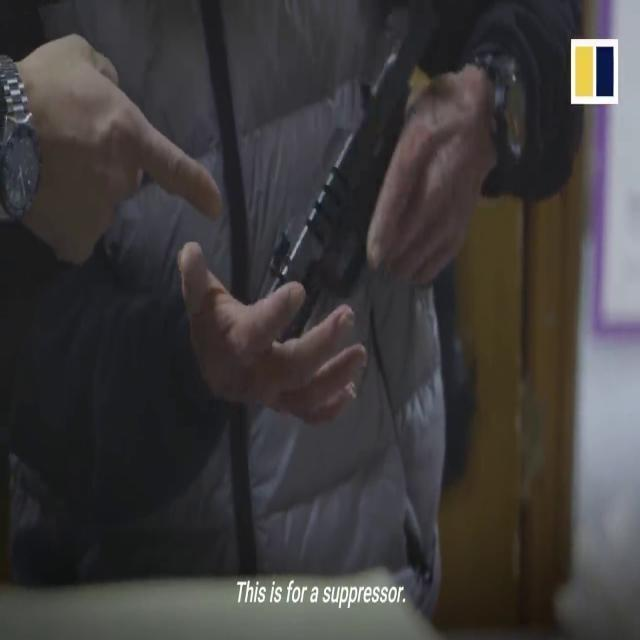Handgun: (261, 46, 473, 338)
